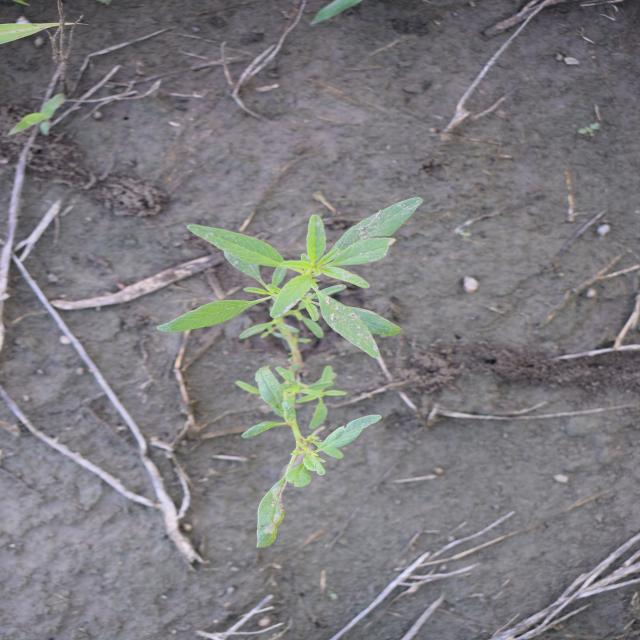Waterhemp: (154, 196, 426, 548)
